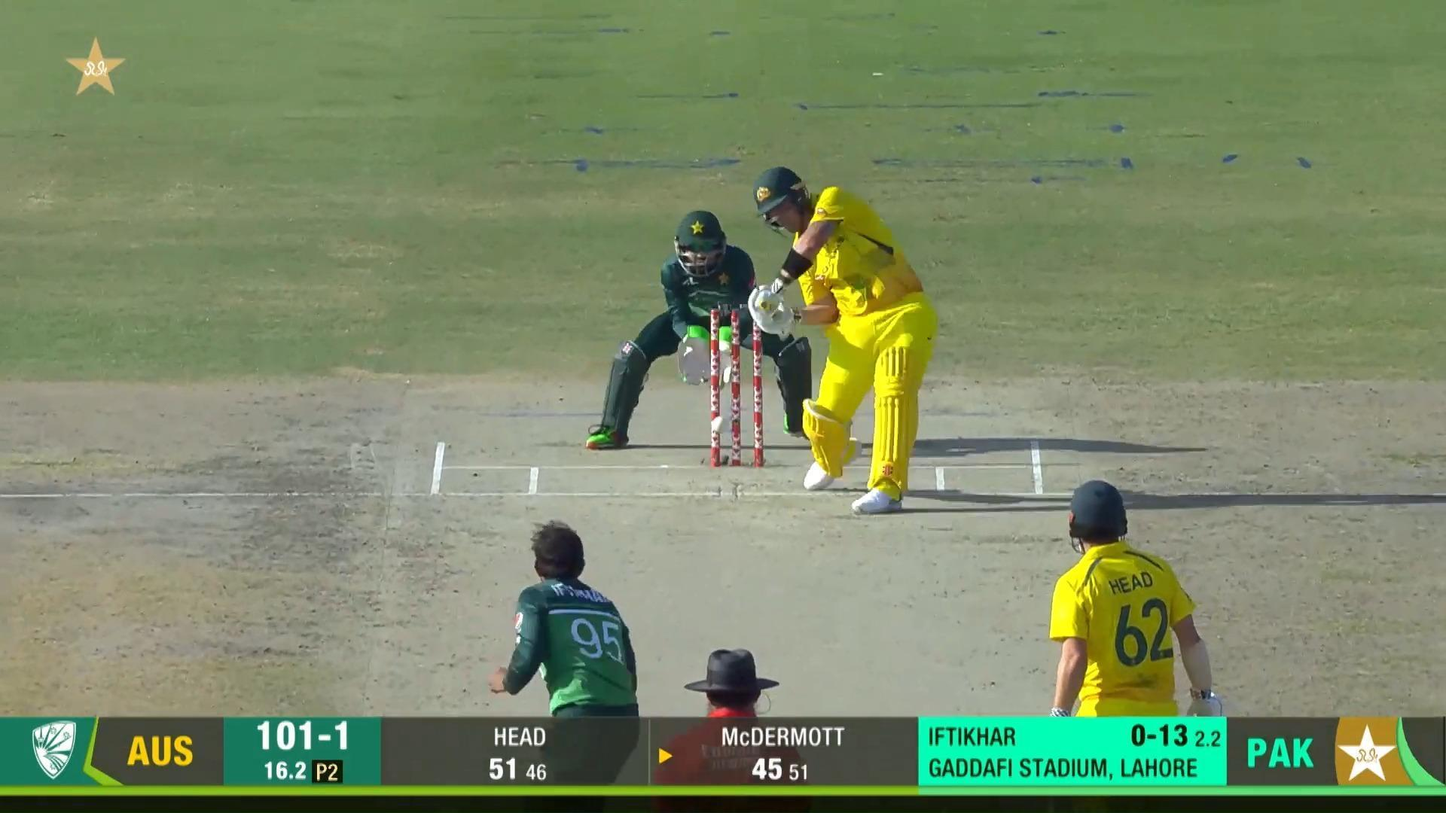BM 1: (746, 164, 943, 513)
BO: (487, 519, 645, 813)
